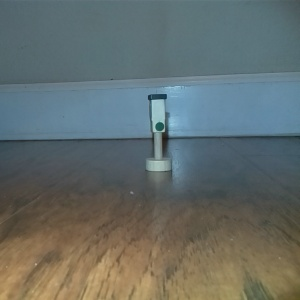traffic light green: (143, 92, 173, 173)
